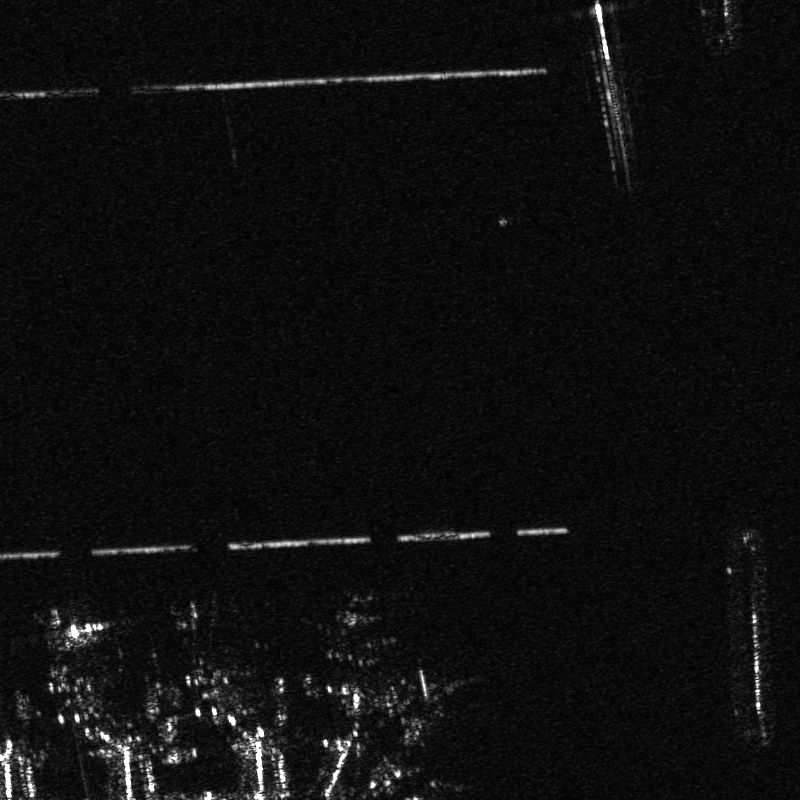A320/321: (289, 585, 402, 701), (22, 600, 113, 728), (164, 598, 249, 719)
